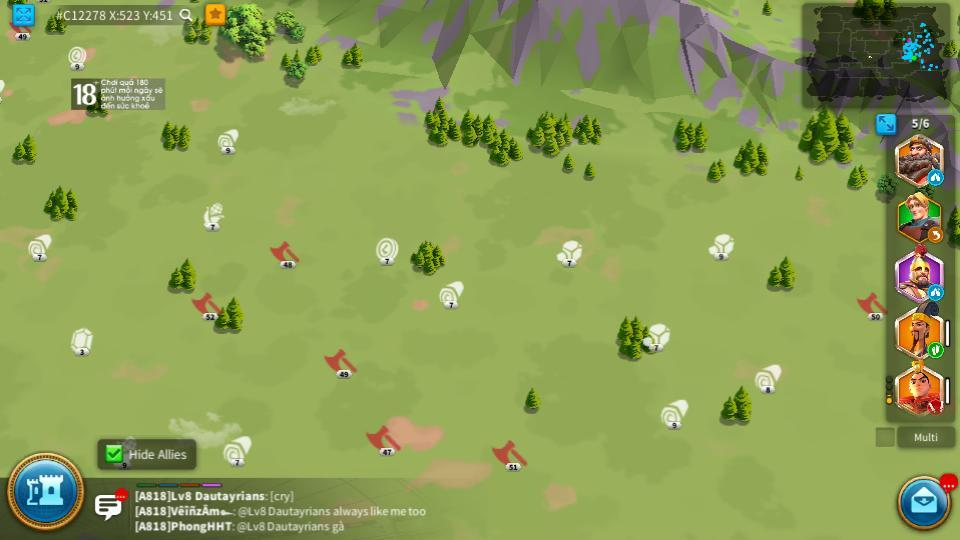gem-z-out: (69, 327, 95, 353)
march_attacking: (927, 402, 944, 414)
march_idle: (929, 284, 942, 297), (929, 172, 942, 185)
march_marching: (928, 345, 942, 358)
march_returning: (929, 231, 942, 242)
